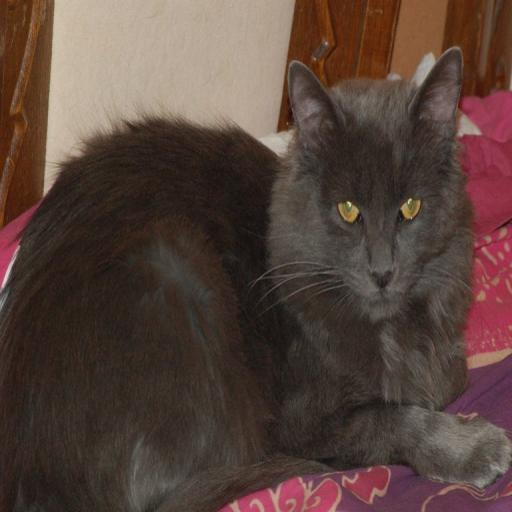cat: (0, 46, 512, 512)
